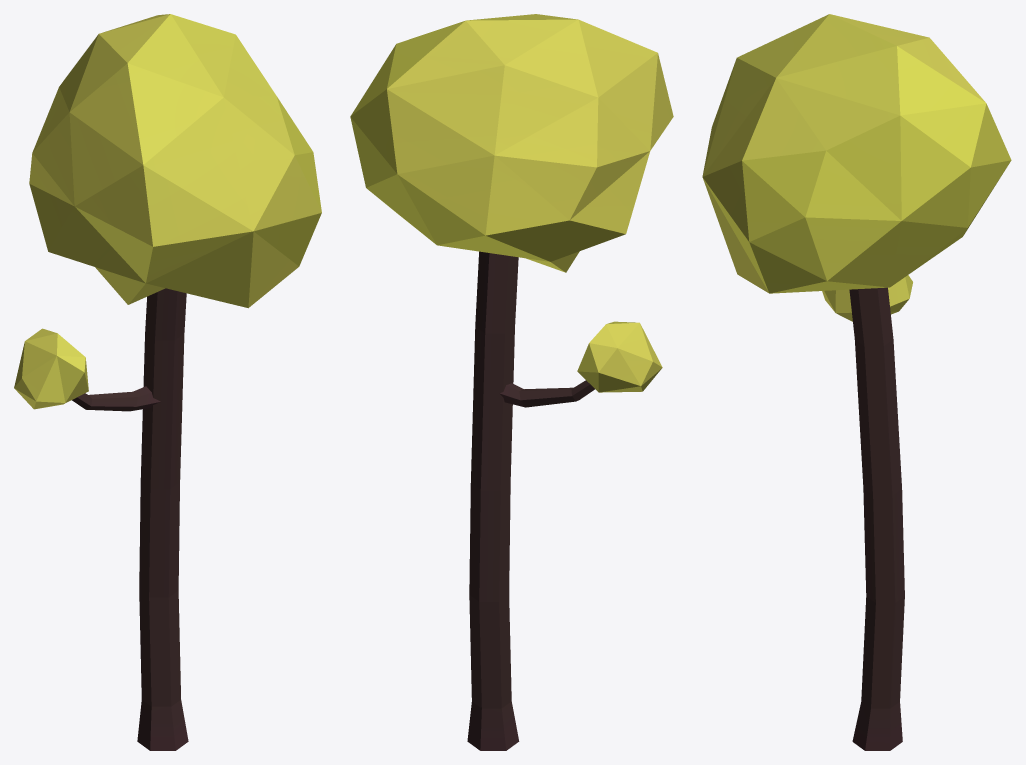
File: tree2.fbx
3 renders of one model, left to right at view 1: azimuth 30°, elevation 25°; view 2: azimuth 150°, elevation 25°; view 3: azimuth 270°, elevation 25°, orthographic. The views are drawn at different scales.
Visible parts, largest first — view 1: Cylinder.005; view 2: Cylinder.005; view 3: Cylinder.005.
Part boxes in pixels (box(x1,y1,x2,y2)): Cylinder.005: box(14, 14, 321, 750); Cylinder.005: box(350, 14, 673, 750); Cylinder.005: box(702, 14, 1011, 750).
Size of the model in its own units: 387 by 969 by 386.
